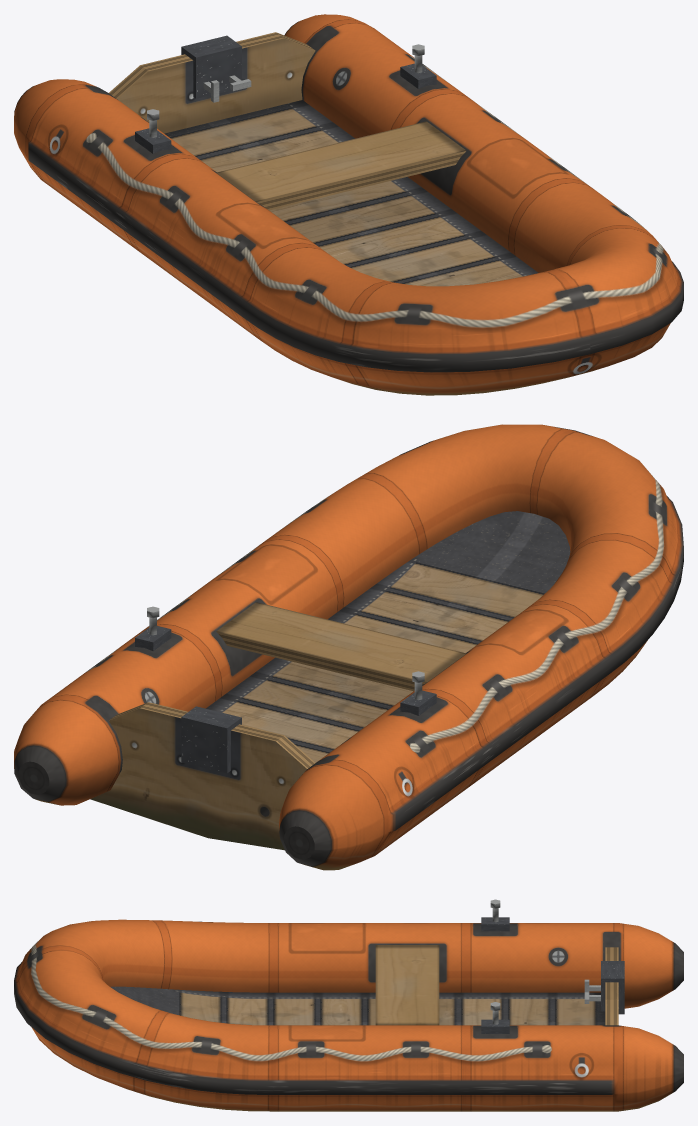
File: DinghyHero.glb
3 renders of one model, top to bottom at view 1: azimuth 30°, elevation 25°; view 2: azimuth 150°, elevation 25°; view 3: azimuth 270°, elevation 25°, orthographic. The views are drawn at different scales.
Parts seen in each view (by area): view 1: DinghyHero; view 2: DinghyHero; view 3: DinghyHero.
Boxes of the visible parts, x1,y1,x2,y2 form: DinghyHero: (14,14,683,395); DinghyHero: (14,424,683,870); DinghyHero: (14,899,683,1111).
Bounding box in the file's own units: 4 × 1.52 × 8.
Materials: 1 (1 with a texture image).
